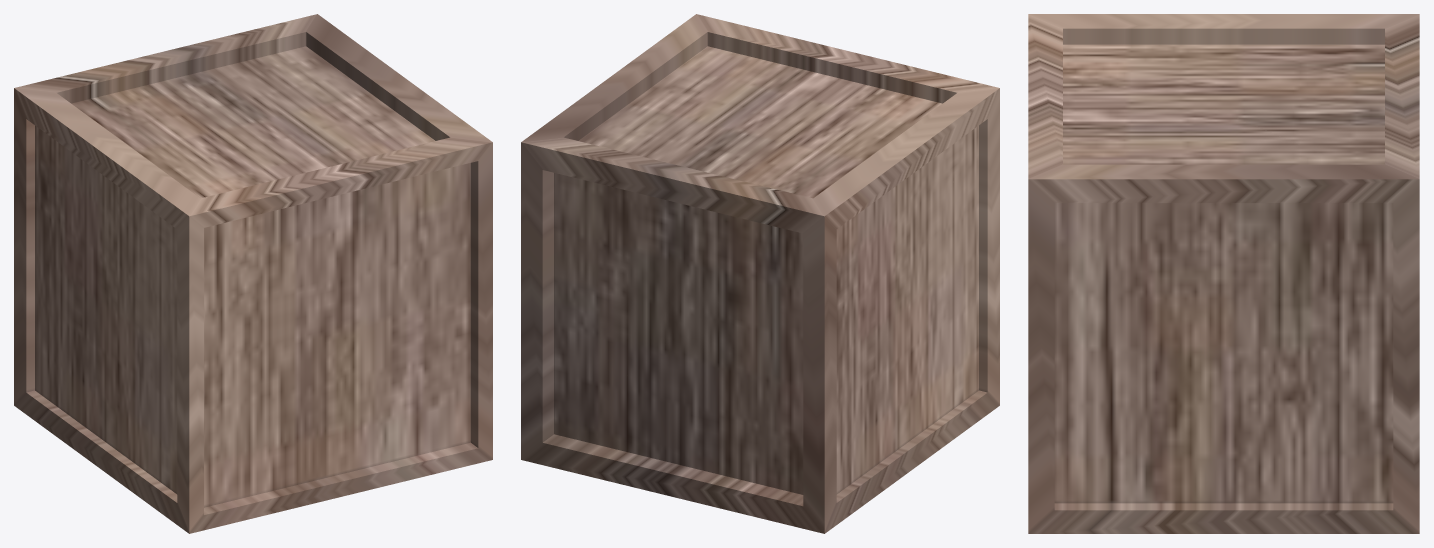
Rendered from crate.fbx.
3 renders of one model, left to right at view 1: azimuth 30°, elevation 25°; view 2: azimuth 150°, elevation 25°; view 3: azimuth 270°, elevation 25°, orthographic. The views are drawn at different scales.
Parts seen in each view (by area): view 1: pCube20; view 2: pCube20; view 3: pCube20.
Part boxes in pixels (x1=…): pCube20: x1=14, y1=14, x2=492, y2=533; pCube20: x1=521, y1=14, x2=999, y2=533; pCube20: x1=1028, y1=14, x2=1419, y2=533.
Size of the model in its own units: 429 by 429 by 429.
